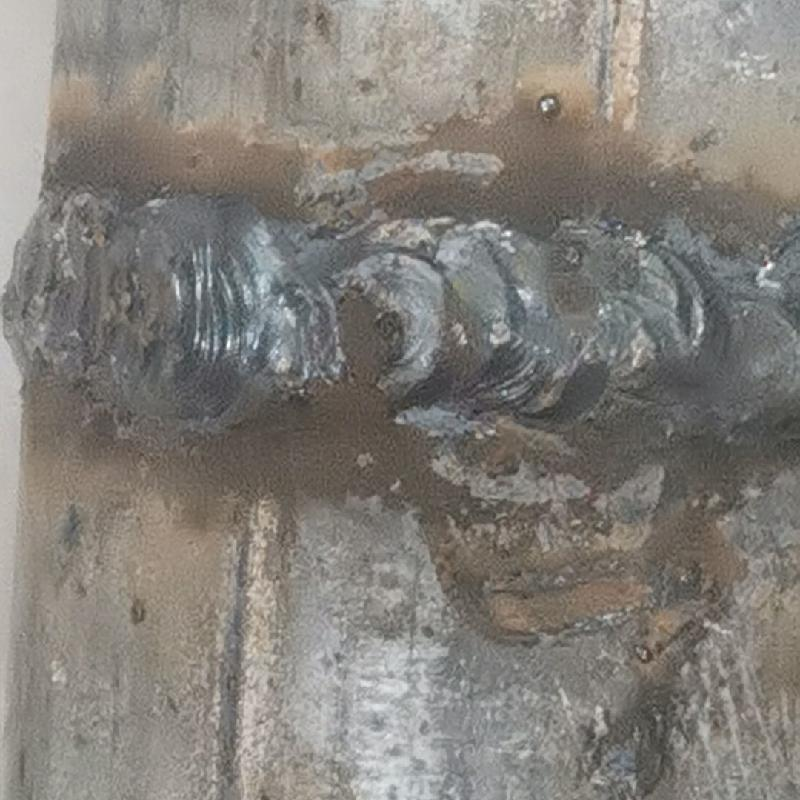good: (2, 167, 798, 461)
